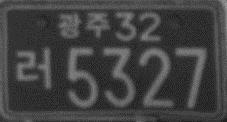2: (138, 47, 174, 109), (138, 10, 162, 43)
3: (102, 46, 134, 107), (113, 10, 136, 43)
5: (66, 46, 99, 108)
7: (173, 45, 208, 110)
광주_O: (57, 10, 110, 40)
러: (14, 47, 53, 91)
